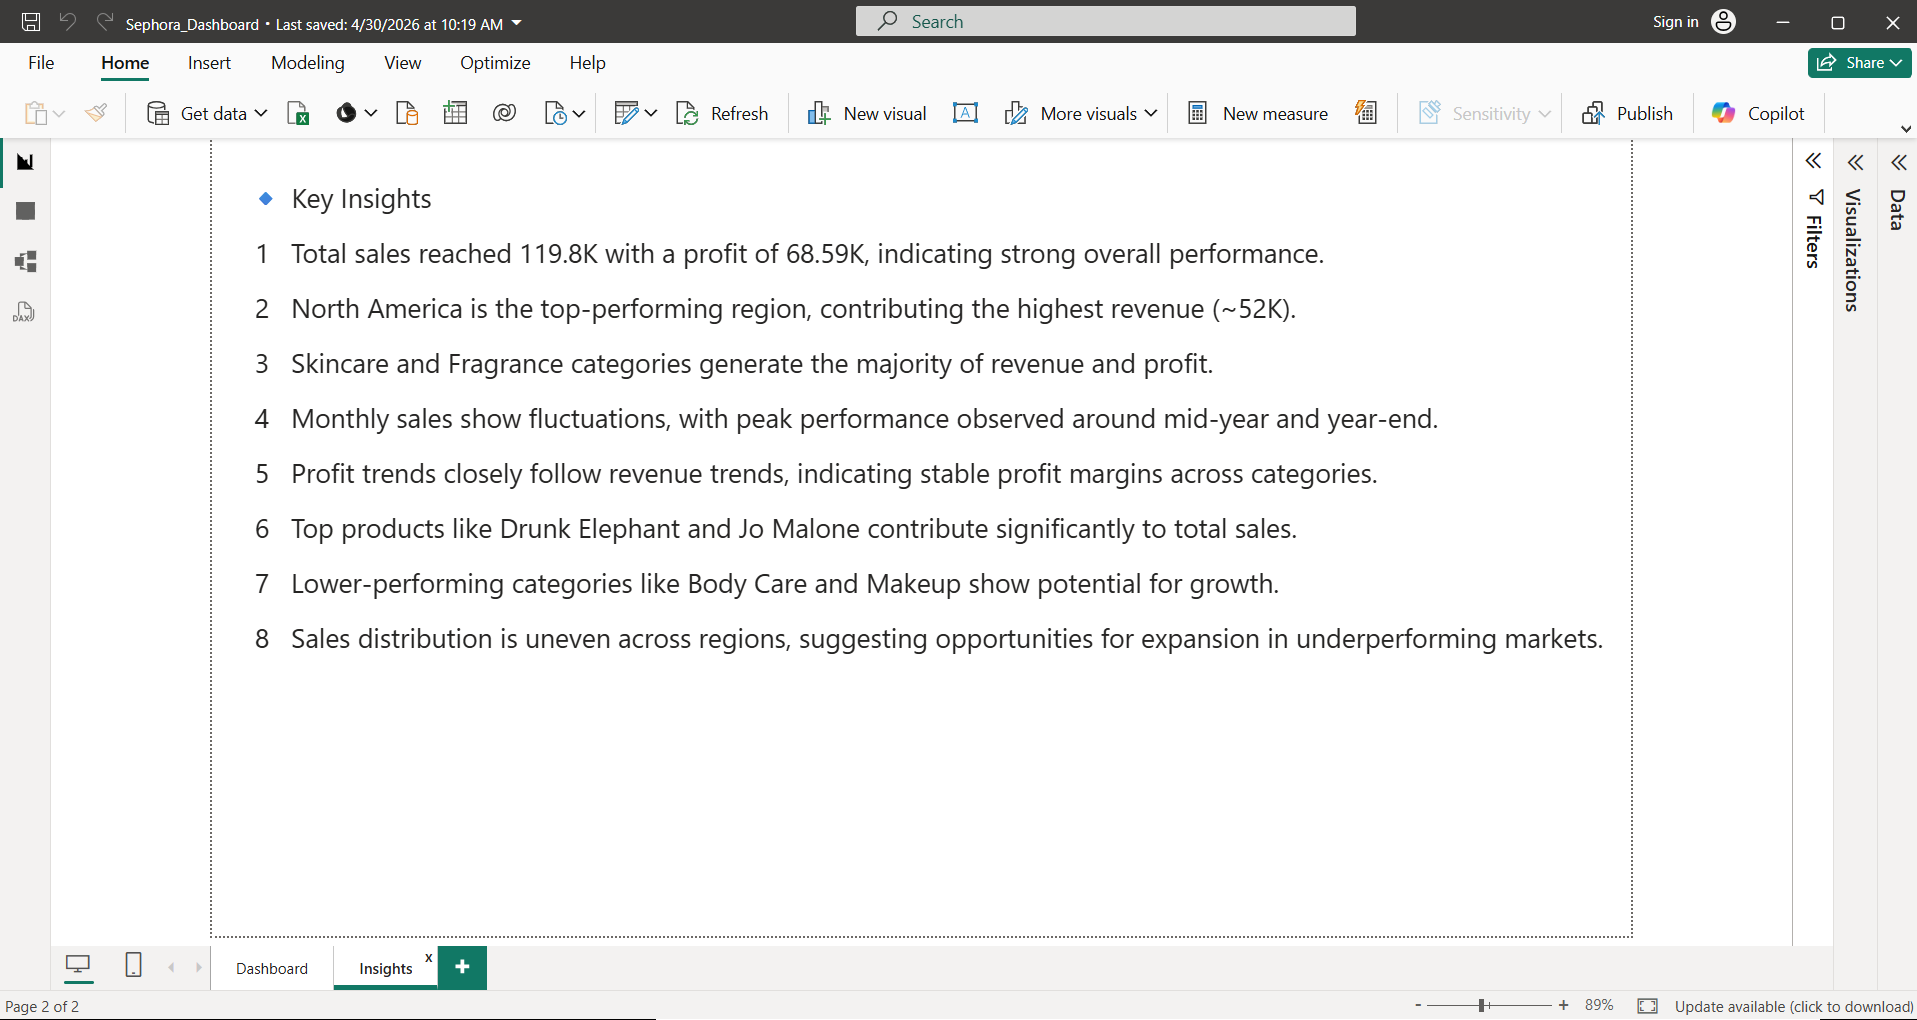

The dashboard page shown, as its layout file describes it:
{"tool":"powerbi","page":{"name":"Insights","canvas":[1280,720],"ordinal":1},"visuals":[{"type":"textbox","box":[26.9,33,1253.4,587],"z":0}]}

Visuals, with their boxes on the page's 1280x720 design canvas (x1, y1, x2, y2). These are canvas units, not pixel positions in the 1917x1020 screenshot, which may show the page scaled, cropped or inside an application window:
textbox: select_region(27, 33, 1280, 620)
